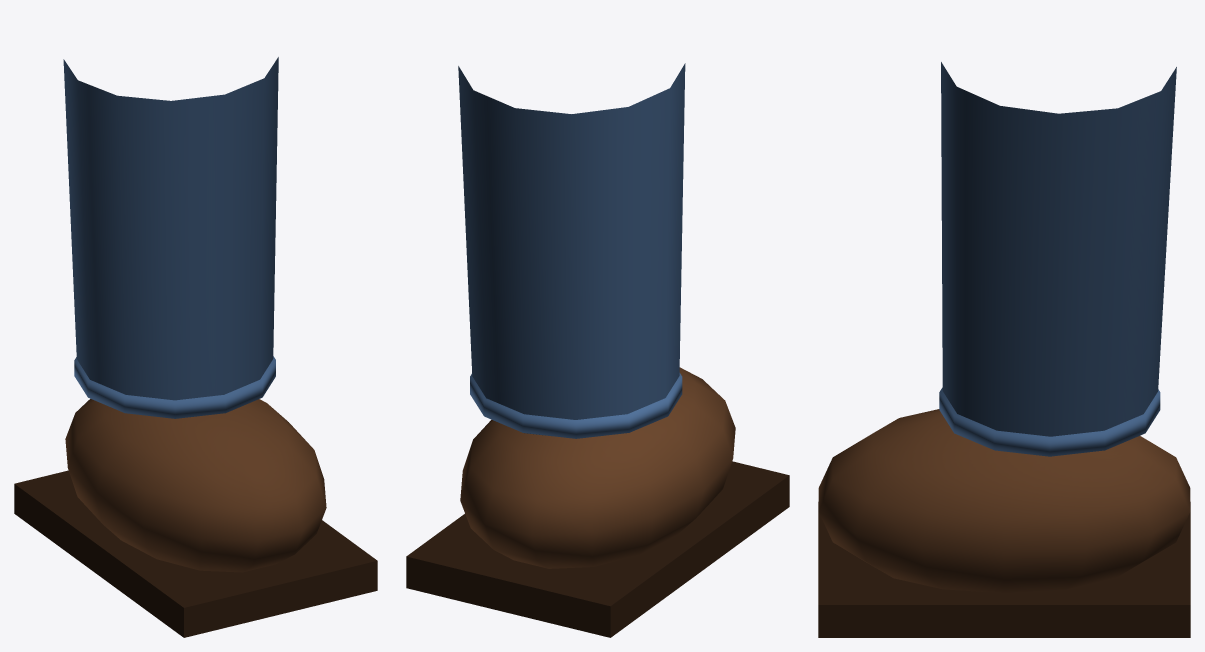
The model's file is golden-gardener-leg.glb.
3 renders of one model, left to right at view 1: azimuth 30°, elevation 25°; view 2: azimuth 150°, elevation 25°; view 3: azimuth 270°, elevation 25°, orthographic. The views are drawn at different scales.
Parts seen in each view (by area): view 1: golden-gardener-leg; view 2: golden-gardener-leg; view 3: golden-gardener-leg.
Part boxes in pixels (<box>): golden-gardener-leg: <box>14,57,377,637</box>; golden-gardener-leg: <box>406,63,789,637</box>; golden-gardener-leg: <box>818,62,1190,637</box>.
Bounding box in the file's own units: 0.28 × 0.6381 × 0.41.
